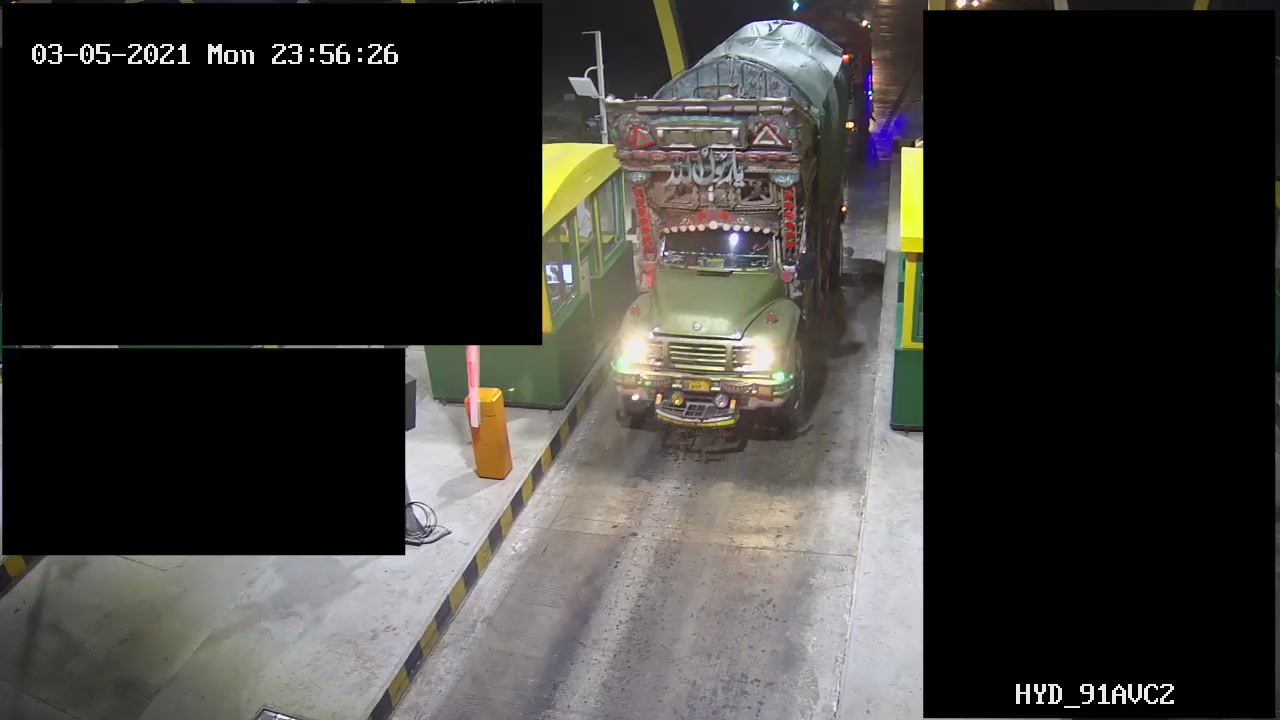F5: (604, 17, 851, 457)
